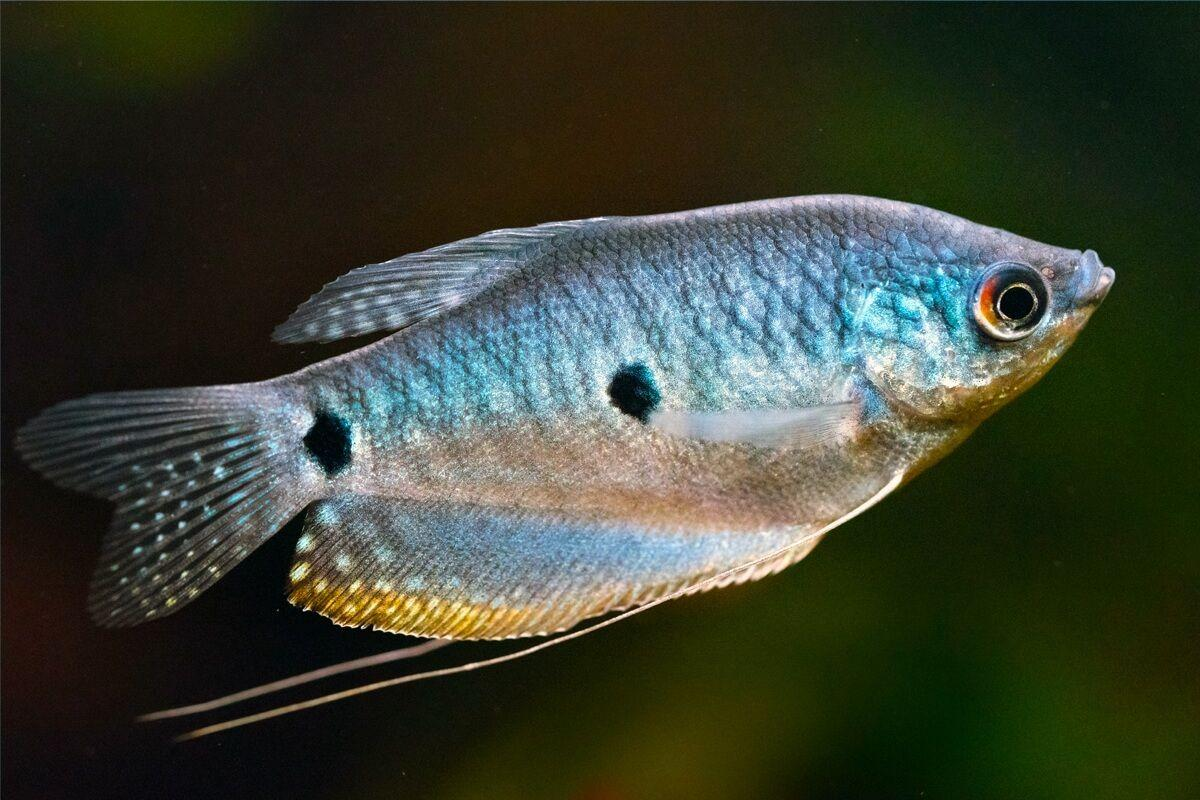Gourami: (9, 188, 1118, 738)
